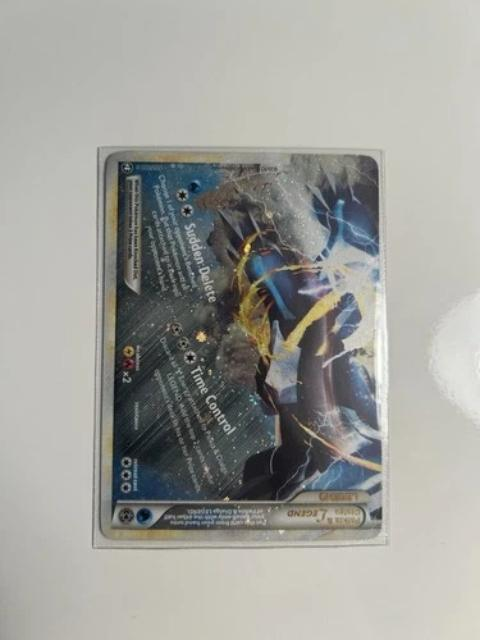Card: (96, 147, 387, 546)
Name: (281, 504, 363, 530)
